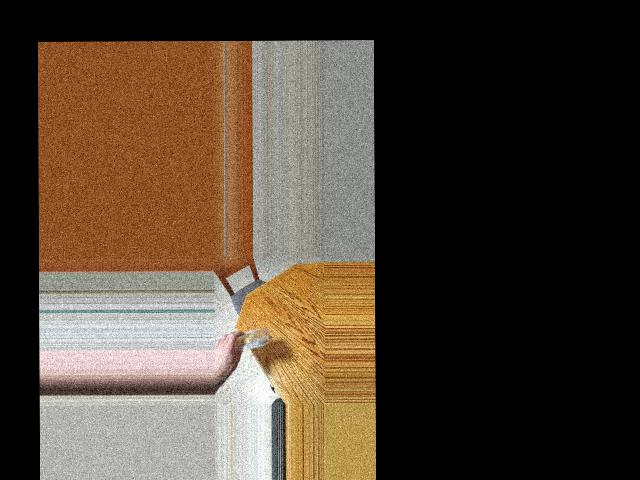cheese: (234, 327, 267, 357)
